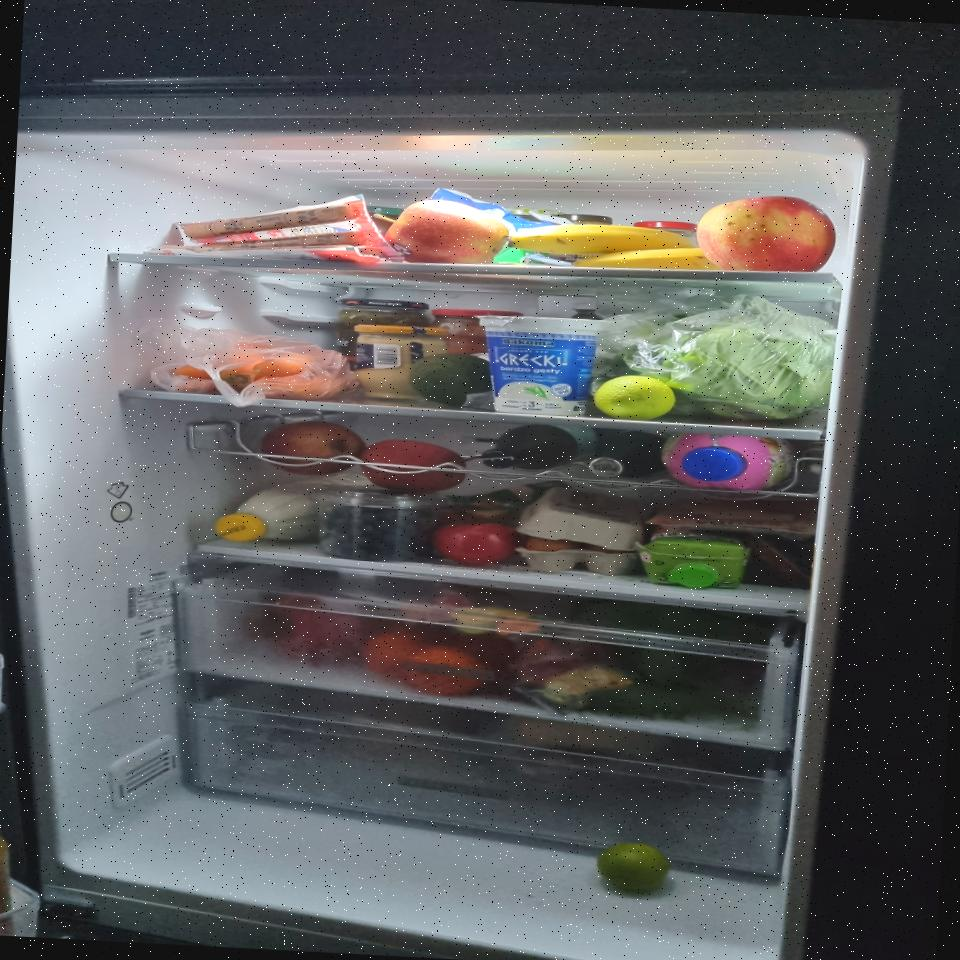Aguacate: (408, 352, 494, 408)
Huevos: (514, 484, 644, 577)
Leche: (213, 466, 372, 548)
Lechuga/Endivia: (590, 287, 835, 426)
Manzana: (694, 192, 838, 276), (367, 196, 511, 268), (260, 418, 367, 479), (358, 436, 468, 494)
Plátano: (506, 219, 724, 274)
Tomate: (434, 518, 515, 568)
Zanahoria: (170, 334, 358, 402)
